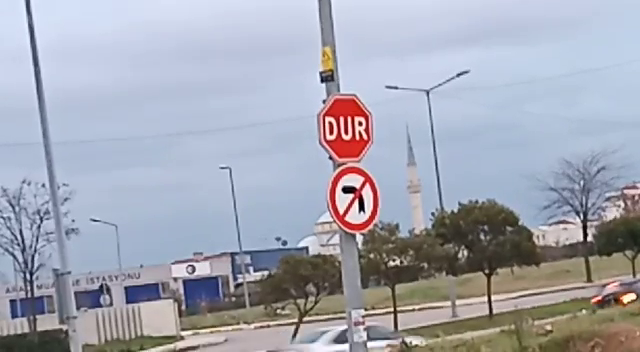no_left: (325, 162, 383, 235)
stop: (316, 91, 377, 164)
